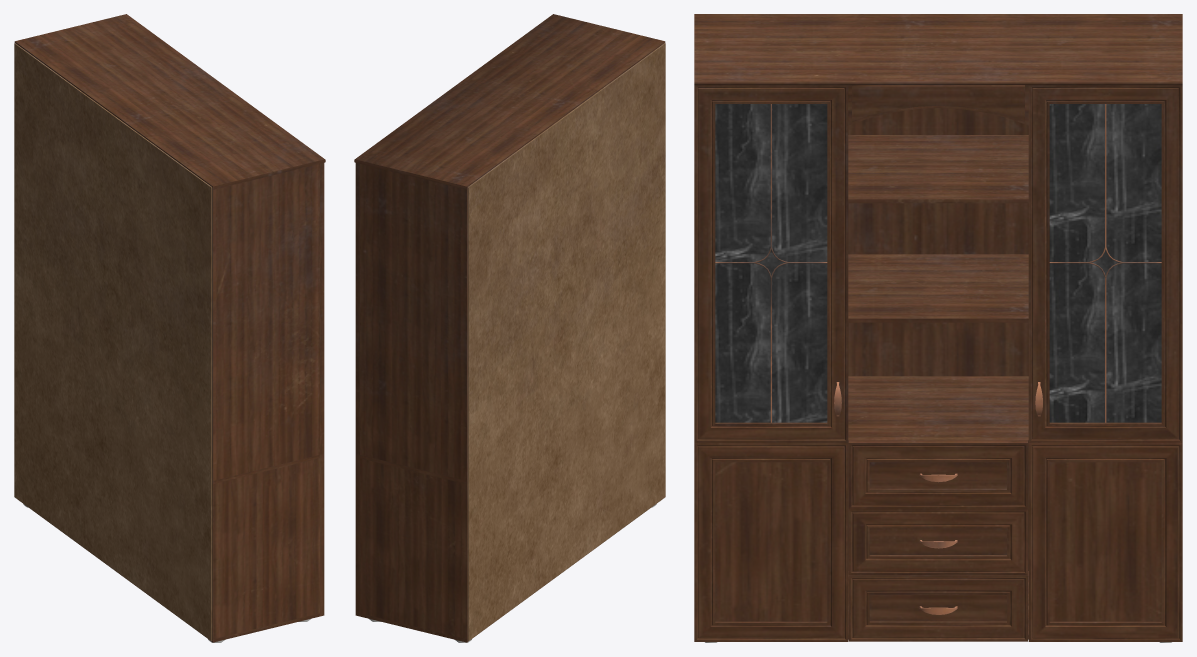
The model's file is obj_sideboard_a5eea8.glb.
3 renders of one model, left to right at view 1: azimuth 30°, elevation 25°; view 2: azimuth 150°, elevation 25°; view 3: azimuth 270°, elevation 25°, orthographic. The views are drawn at different scales.
Visible parts, largest first — view 1: obj_sideboard_a5eea8; view 2: obj_sideboard_a5eea8; view 3: obj_sideboard_a5eea8.
Part boxes in pixels (left/top/right/bottom): obj_sideboard_a5eea8: left=14, top=14, right=325, bottom=642; obj_sideboard_a5eea8: left=354, top=14, right=665, bottom=642; obj_sideboard_a5eea8: left=694, top=14, right=1182, bottom=642.
Bounding box in the file's own units: 0.5402 × 2 × 1.56.
Materials: 1 (1 with a texture image).
